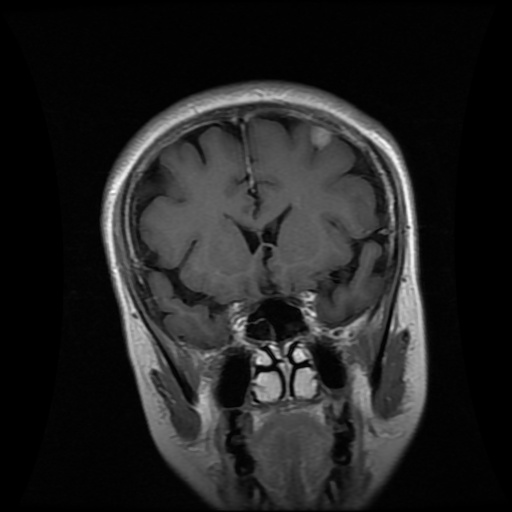meningioma: (310, 125, 331, 150)
